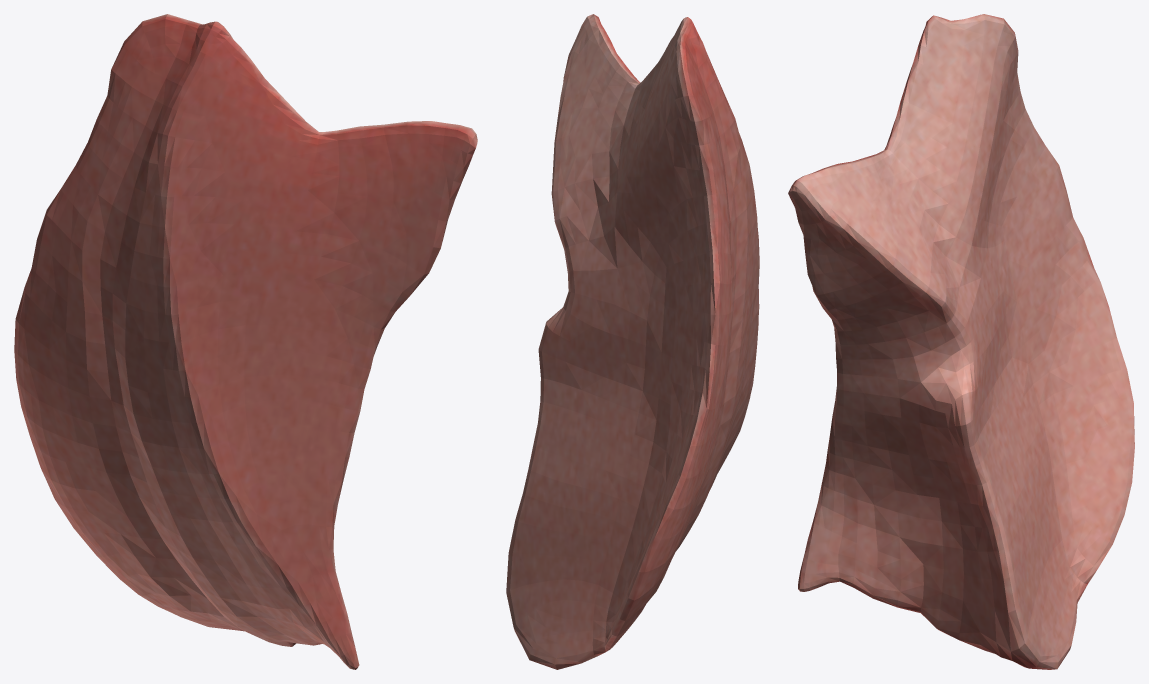
File: R_lung_middle_lobe_LOW.glb
The picture shows the model from 3 angles, left to right: view 1: azimuth 30°, elevation 25°; view 2: azimuth 150°, elevation 25°; view 3: azimuth 270°, elevation 25°; orthographic projection. The views are drawn at different scales.
Parts seen in each view (by area): view 1: R_lung_middle_lobe_LOW; view 2: R_lung_middle_lobe_LOW; view 3: R_lung_middle_lobe_LOW.
Boxes of the visible parts, x1=… form: R_lung_middle_lobe_LOW: x1=14, y1=14, x2=477, y2=669; R_lung_middle_lobe_LOW: x1=506, y1=14, x2=759, y2=669; R_lung_middle_lobe_LOW: x1=788, y1=14, x2=1134, y2=669.
Bounding box in the file's own units: 0.0018 × 0.00391 × 0.00201.
1 material, 1 textured.
